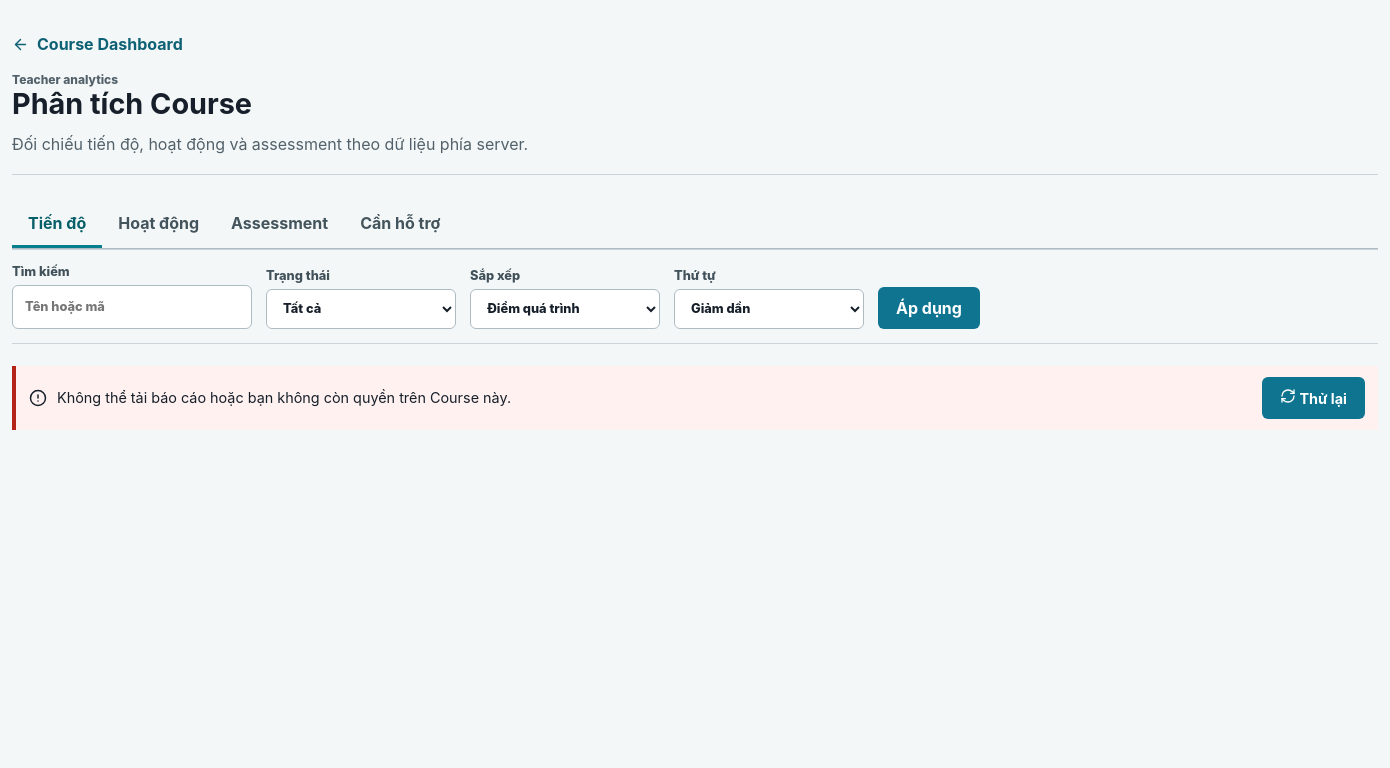
Test: Phase 06 Teacher reporting Web › recovers ranking data after a controlled request error
The width and height of the screenshot is (1390, 768).
Click the button "Thử lại": click(1314, 398) [1262,376,1365,418]
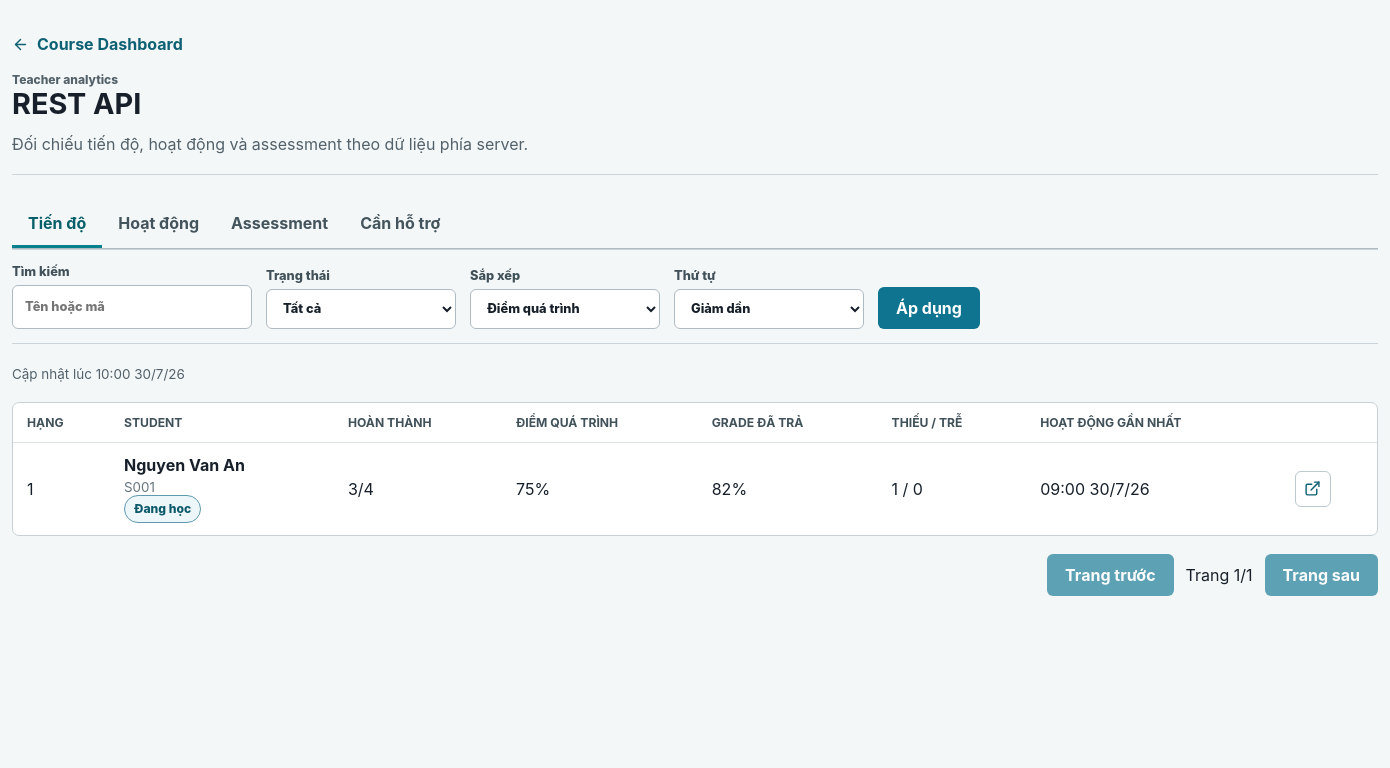
expect the text "Nguyen Van An" is shown: met, box [124,454,245,474]
